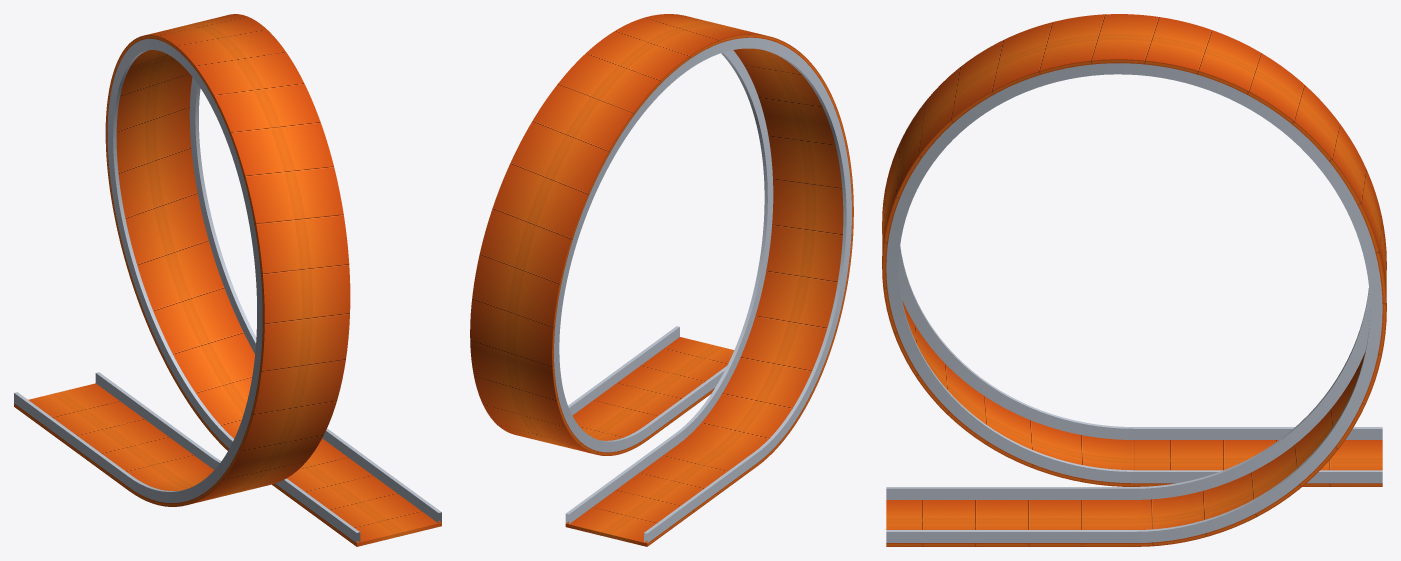
Rendered from loop-r7.glb.
3 renders of one model, left to right at view 1: azimuth 30°, elevation 25°; view 2: azimuth 150°, elevation 25°; view 3: azimuth 270°, elevation 25°, orthographic. The views are drawn at different scales.
Size of the model in its own units: 7 by 14.24 by 14.24.
4 materials, 3 textured.
